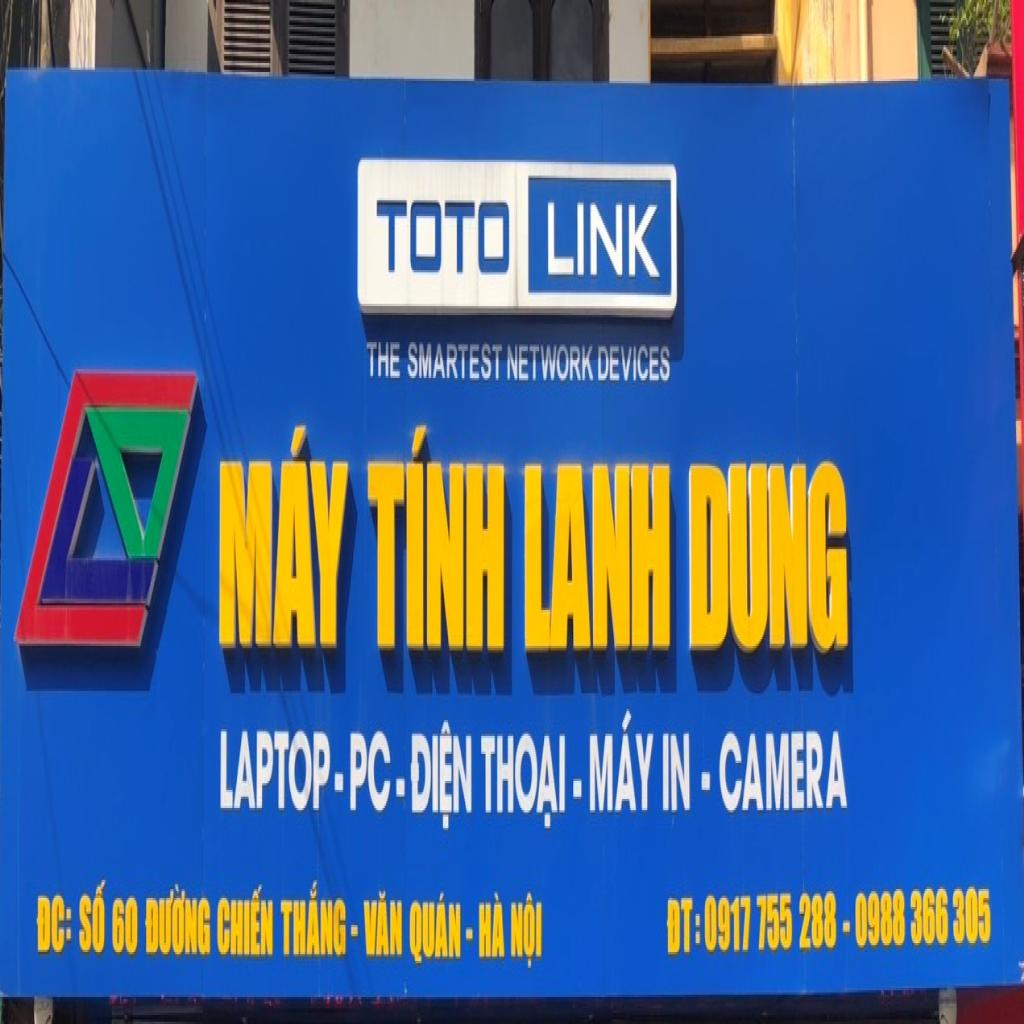text: (365, 419, 507, 657), (687, 457, 850, 659), (216, 421, 354, 657), (523, 457, 672, 657), (718, 727, 850, 819), (374, 196, 510, 279), (219, 725, 332, 819), (546, 198, 662, 281), (703, 889, 839, 956), (480, 731, 568, 833), (588, 704, 657, 817), (409, 713, 473, 833), (144, 878, 212, 963), (280, 882, 348, 966), (215, 882, 276, 961), (407, 337, 503, 385), (507, 340, 595, 387), (408, 894, 464, 966), (348, 727, 392, 817), (597, 342, 671, 387), (362, 887, 404, 961), (510, 889, 544, 974), (661, 729, 693, 815), (77, 873, 109, 959), (36, 889, 74, 959), (664, 893, 702, 961), (478, 889, 507, 965), (111, 889, 141, 961), (366, 340, 401, 382)
